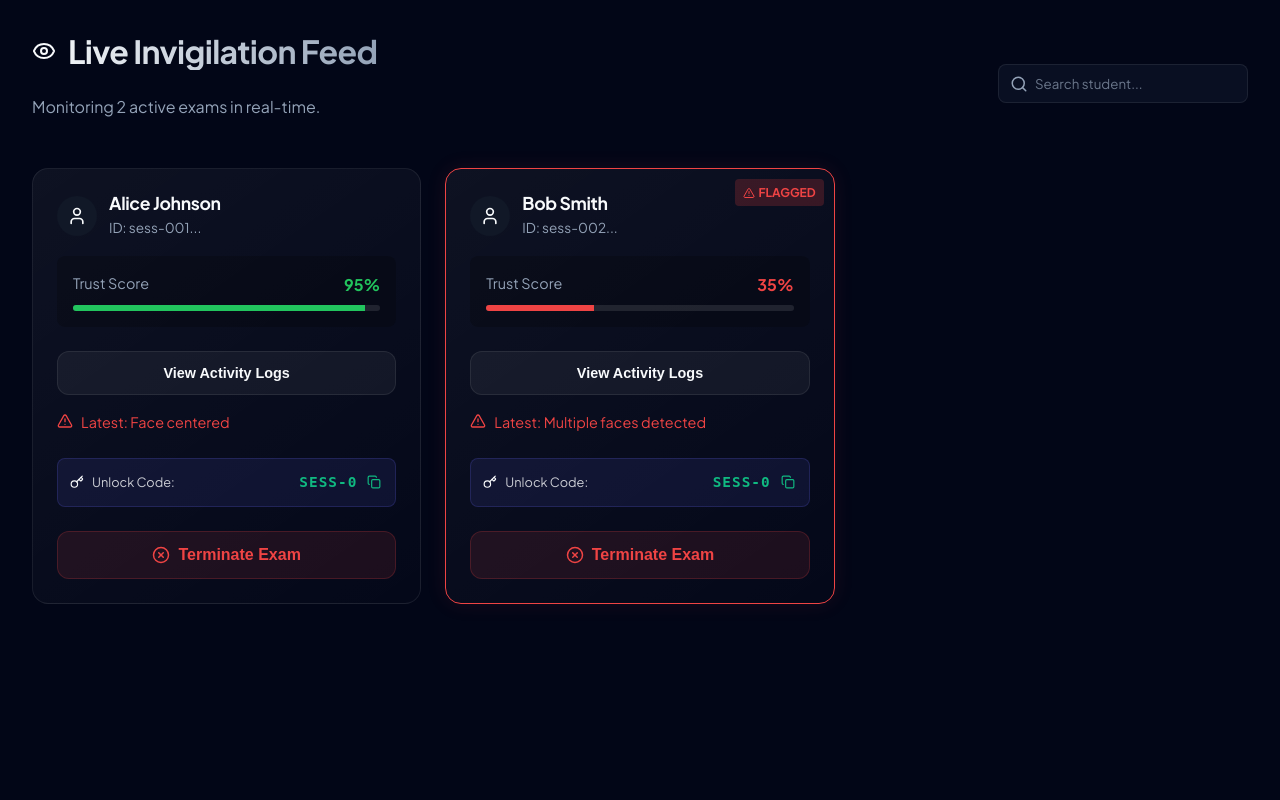
LiveFeedPage › opens activity logs modal when clicking View Activity Logs
Expected: the heading "Alice Johnson" is shown, [109,193,221,214]
Click the button "View Activity Logs" below "95".
click(227, 373)  # box [57,351,396,395]
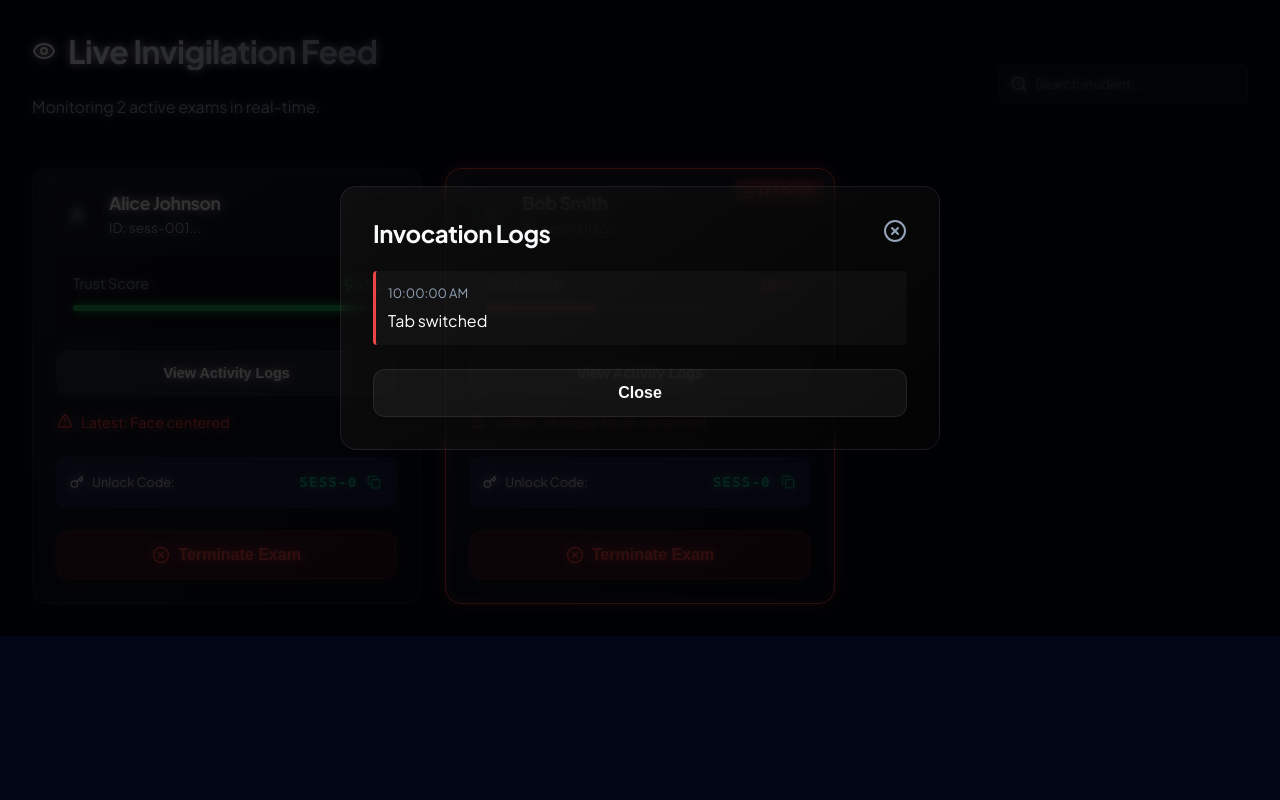
Expected: the heading "Invocation Logs" is shown, [373,218,550,247]
Expected: the text "Tab switched" is shown, [388,310,487,331]
